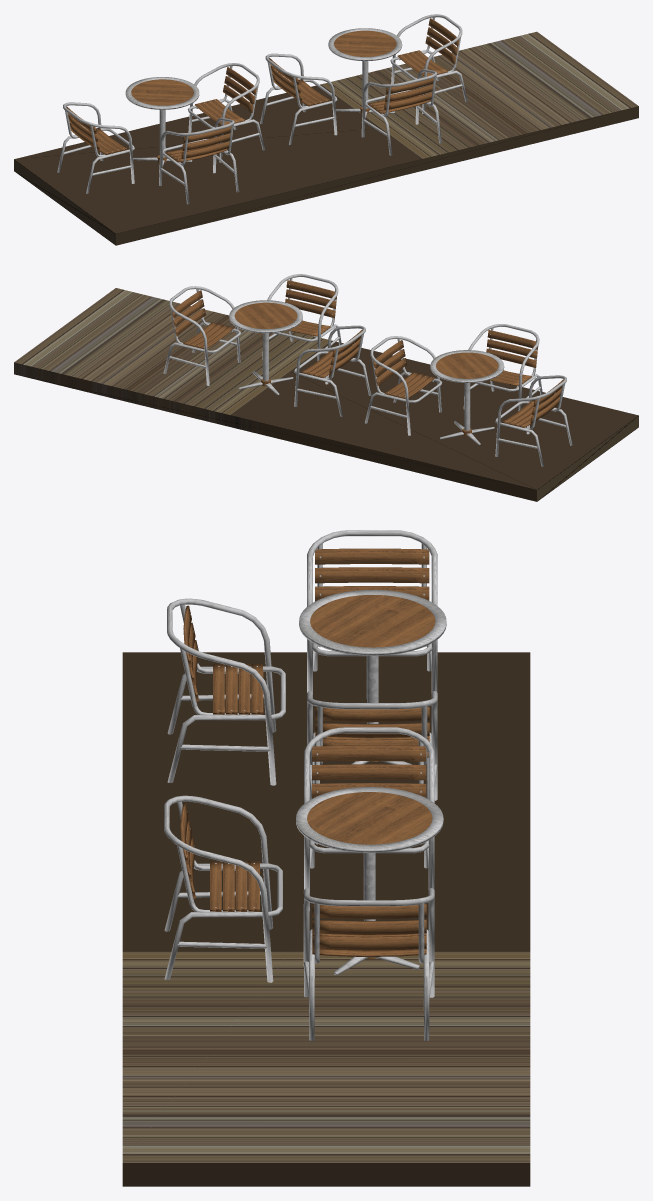
Rendered from Chairs.fbx.
3 renders of one model, top to bottom at view 1: azimuth 30°, elevation 25°; view 2: azimuth 150°, elevation 25°; view 3: azimuth 270°, elevation 25°, orthographic. The views are drawn at different scales.
Parts seen in each view (by area): view 1: ChairsPack; view 2: ChairsPack; view 3: ChairsPack.
Part boxes in pixels (x1=…): ChairsPack: x1=14, y1=14, x2=638, y2=245; ChairsPack: x1=14, y1=274, x2=638, y2=501; ChairsPack: x1=122, y1=530, x2=530, y2=1186.
Size of the model in its own units: 6.91 by 1.04 by 2.33.
